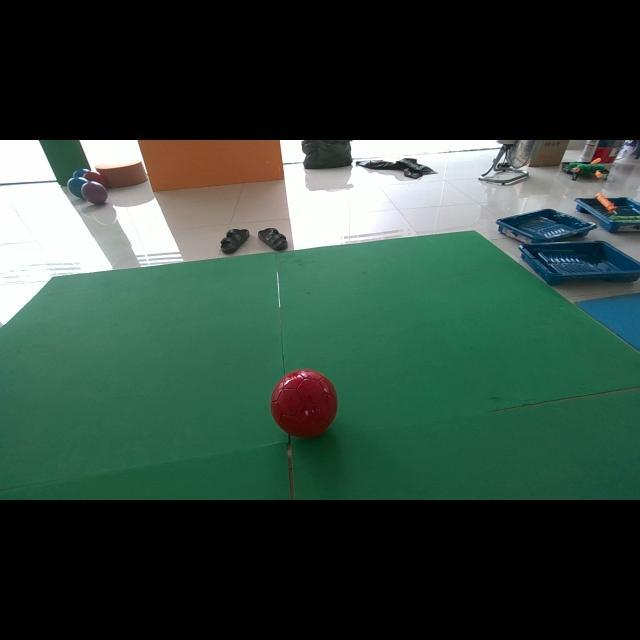B: (68, 178, 88, 199), (72, 168, 90, 178)
P: (81, 181, 108, 205)
R: (271, 369, 338, 438), (84, 171, 106, 186)
